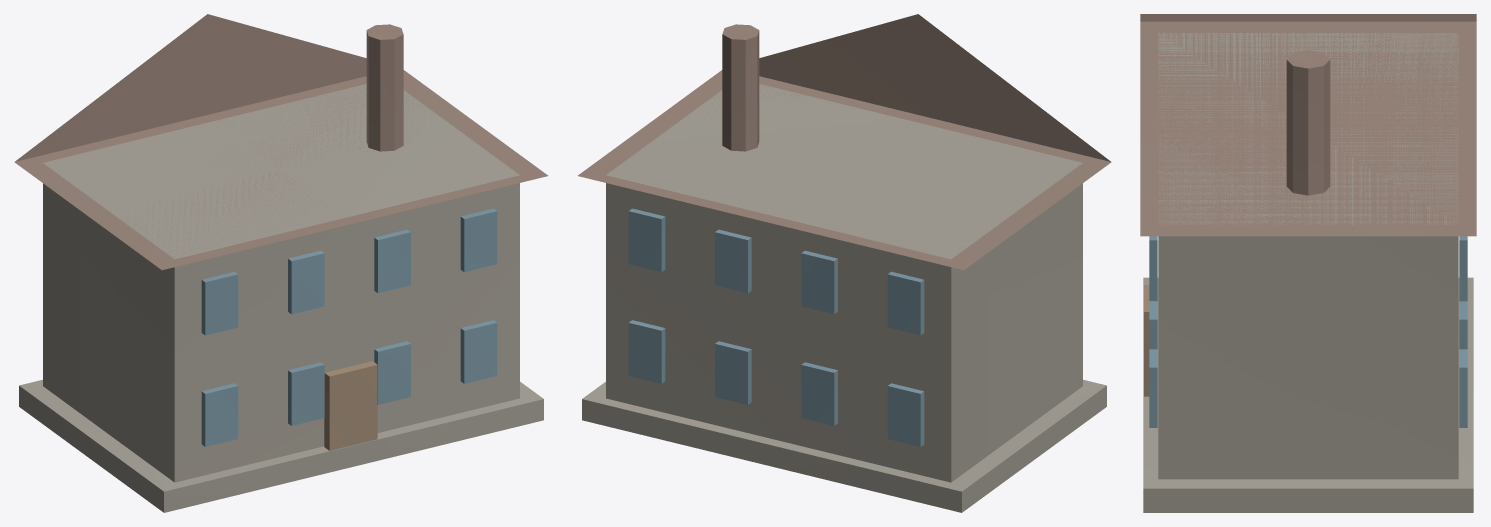
Rendered from barn-02.glb.
3 views of the same model, side by side, from view 1: azimuth 30°, elevation 25°; view 2: azimuth 150°, elevation 25°; view 3: azimuth 270°, elevation 25° (orthographic). The views are drawn at different scales.
Visible parts, largest first — view 1: world; view 2: world; view 3: world.
Part boxes in pixels (left/top/right/bottom): world: left=14, top=14, right=548, bottom=512; world: left=577, top=14, right=1111, bottom=512; world: left=1140, top=14, right=1476, bottom=512.
Size of the model in its own units: 1.52 by 1.34 by 1.01.
